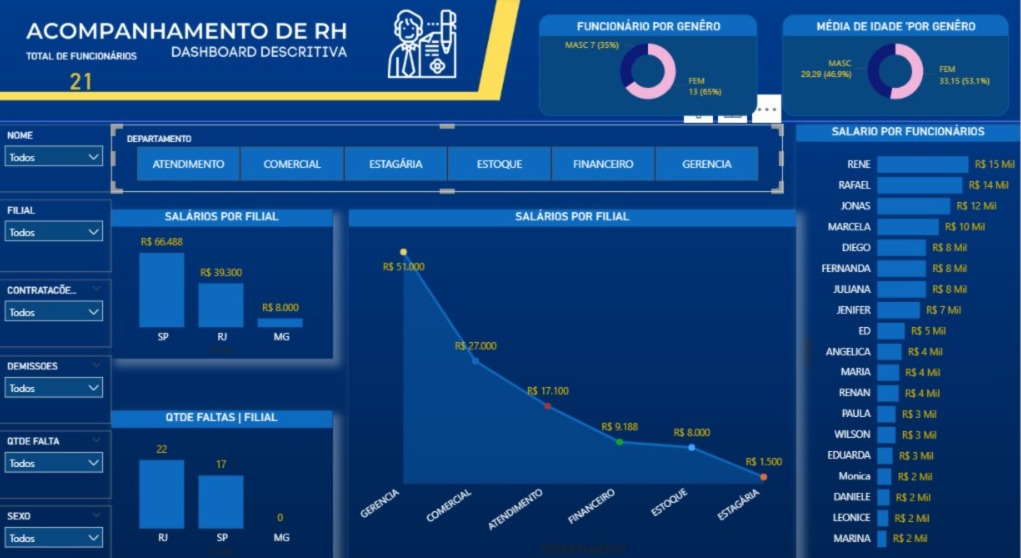

The dashboard page shown, as its layout file describes it:
{"tool":"powerbi","page":{"name":"Página 1","canvas":[1280,720],"ordinal":0},"visuals":[{"type":"barChart","title":"SALARIO POR FUNCIONÁRIOS","fields":{"Category":["Table_1.NOME"],"Y":["Sum(Table_1.SALARIO)"]},"box":[1000.3,159.4,279.8,543.9],"z":0},{"type":"columnChart","title":"QTDE FALTAS | FILIAL","fields":{"Category":["Table_1.FILIAL"],"Y":["Sum(Table_1.QTDE FALTA)"]},"box":[143.8,517.3,276.6,186],"z":1000},{"type":"columnChart","title":"SALÁRIOS POR FILIAL","fields":{"Y":["Sum(Table_1.SALARIO)"],"Category":["Table_1.FILIAL"]},"box":[143.8,265.7,276.6,186],"z":2000},{"type":"areaChart","title":"SALÁRIOS POR FILIAL","fields":{"Category":["Table_1.DEPARTAMENTO"],"Y":["Sum(Table_1.SALARIO)"]},"box":[440.8,265.7,559.5,437.6],"z":3000},{"type":"slicer","fields":{"Values":["Table_1.DEPARTAMENTO"]},"box":[143.8,159.4,839.3,84.4],"z":4000},{"type":"donutChart","title":"FUNCIONÁRIO POR GENÊRO","fields":{"Category":["Table_1.SEXO"],"Y":["CountNonNull(Table_1.SEXO)"]},"box":[678.3,21.9,273.5,126.6],"z":5000},{"type":"donutChart","title":"MÉDIA DE IDADE ''POR GENÊRO","fields":{"Category":["Table_1.SEXO"],"Y":["Avg(Table_1.IDADE)"]},"box":[983.1,21.9,282.9,126.6],"z":6000},{"type":"slicer","fields":{"Values":["Table_1.NOME"]},"box":[0,159.4,143.8,84.4],"z":7000},{"type":"slicer","fields":{"Values":["Table_1.FILIAL"]},"box":[0,253.5,143.8,90.7],"z":8000},{"type":"slicer","fields":{"Values":["Table_1.CONTRATACÕES FEITAS"]},"box":[0,353.9,143.8,84.4],"z":9000},{"type":"slicer","fields":{"Values":["Table_1.DEMISSOES"]},"box":[0,448,143.8,84.4],"z":10000},{"type":"slicer","fields":{"Values":["Table_1.QTDE FALTA"]},"box":[0,542,143.8,84.4],"z":11000},{"type":"slicer","fields":{"Values":["Table_1.SEXO"]},"box":[0,635.6,143.8,84.4],"z":12000},{"type":"card","title":"TOTAL DE FUNCIONÁRIOS","fields":{"Values":["Count(Table_1.ID)"]},"box":[0,67.2,212.6,57.8],"z":12001}]}

Visuals, with their boxes in screenshot pixels (x1, y1, x2, y2), scaled from the page's 1280x720 canvas onto the 1021x558 screenshot:
"SALARIO POR FUNCIONÁRIOS" barChart: bbox=(798, 124, 1020, 545)
"QTDE FALTAS | FILIAL" columnChart: bbox=(115, 401, 335, 545)
"SALÁRIOS POR FILIAL" columnChart: bbox=(115, 206, 335, 350)
"SALÁRIOS POR FILIAL" areaChart: bbox=(352, 206, 798, 545)
slicer - Table_1.DEPARTAMENTO: bbox=(115, 124, 784, 189)
"FUNCIONÁRIO POR GENÊRO" donutChart: bbox=(541, 17, 759, 115)
"MÉDIA DE IDADE ''POR GENÊRO" donutChart: bbox=(784, 17, 1010, 115)
slicer - Table_1.NOME: bbox=(0, 124, 115, 189)
slicer - Table_1.FILIAL: bbox=(0, 196, 115, 267)
slicer - Table_1.CONTRATACÕES FEITAS: bbox=(0, 274, 115, 340)
slicer - Table_1.DEMISSOES: bbox=(0, 347, 115, 413)
slicer - Table_1.QTDE FALTA: bbox=(0, 420, 115, 485)
slicer - Table_1.SEXO: bbox=(0, 493, 115, 557)
"TOTAL DE FUNCIONÁRIOS" card: bbox=(0, 52, 170, 97)
